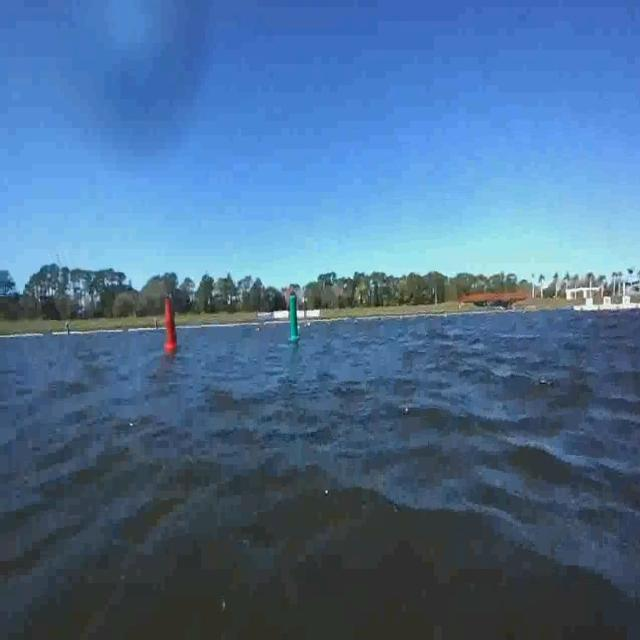green-column-buoy: (287, 295, 301, 343)
red-column-buoy: (163, 298, 177, 352)
